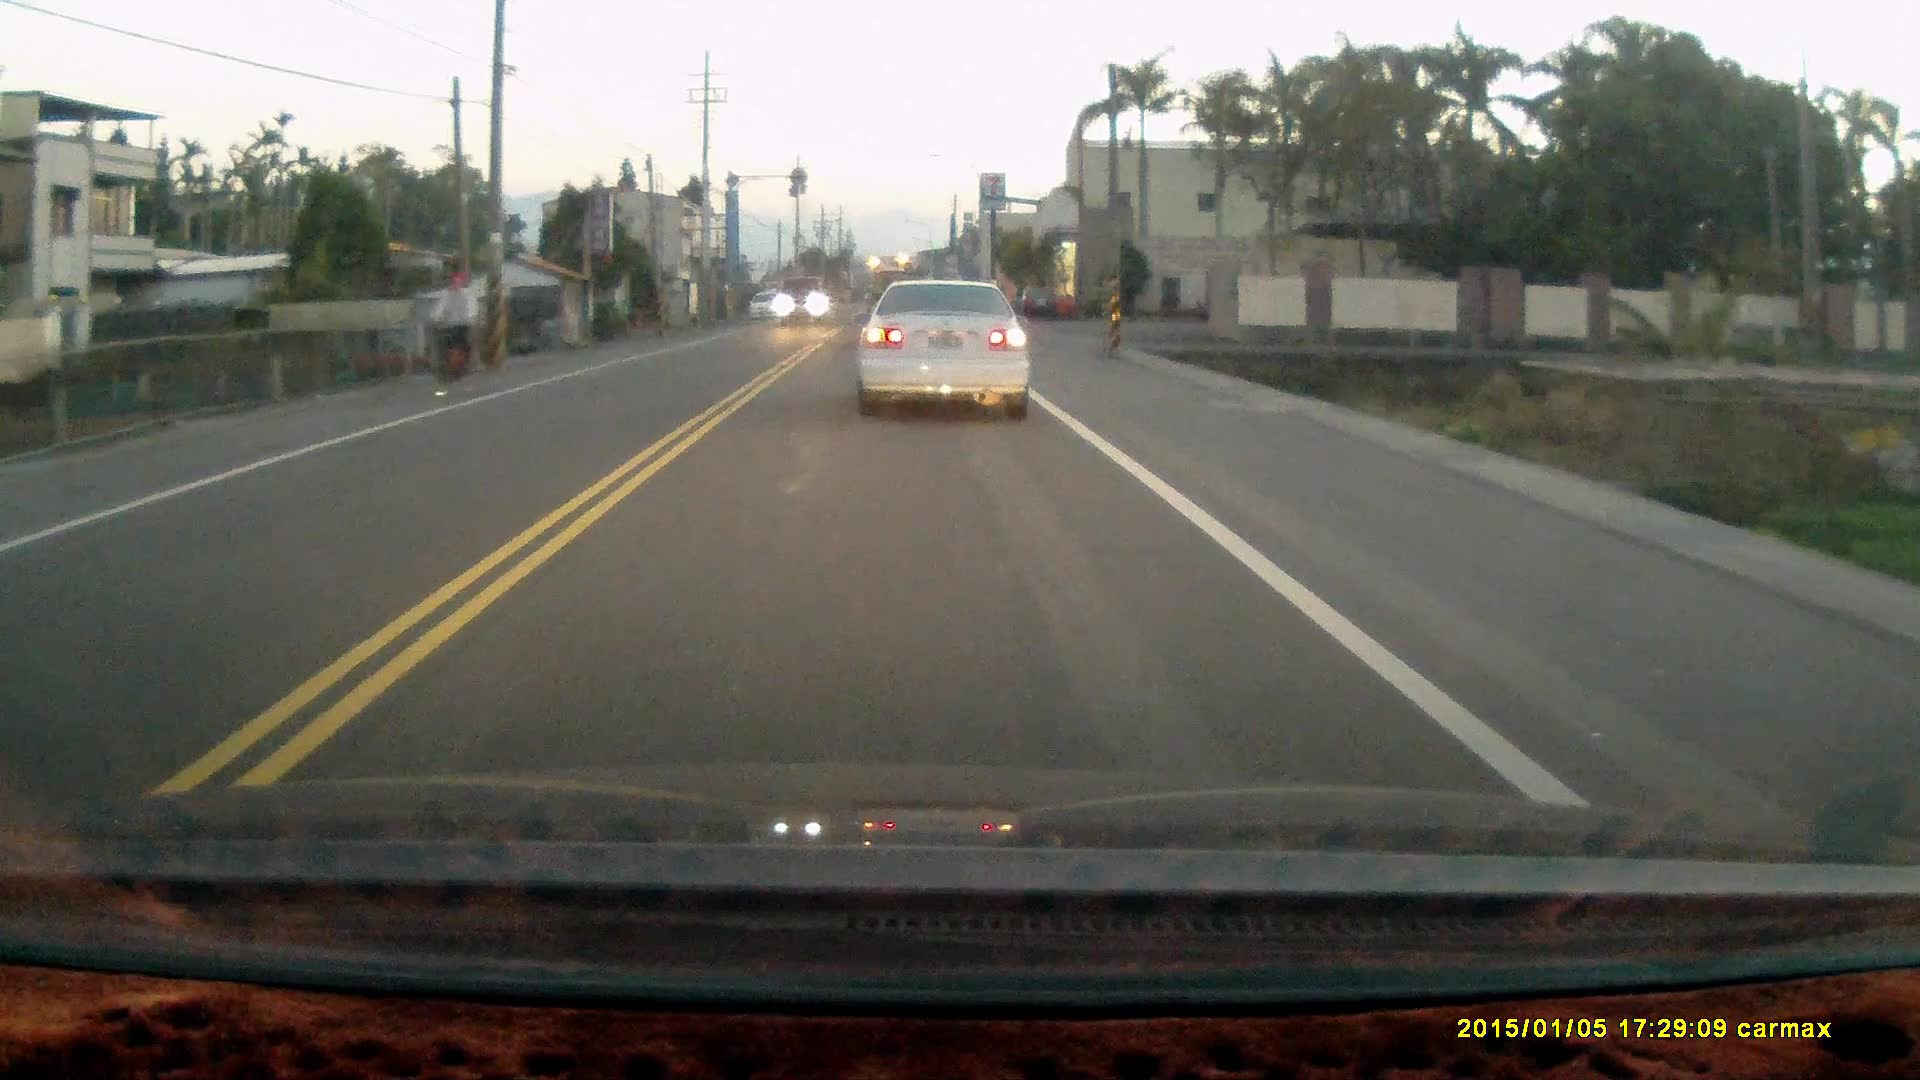rider: (428, 268, 482, 397)
vehicle: (857, 274, 1034, 417), (777, 273, 831, 325), (1015, 282, 1062, 320), (749, 292, 776, 321)
